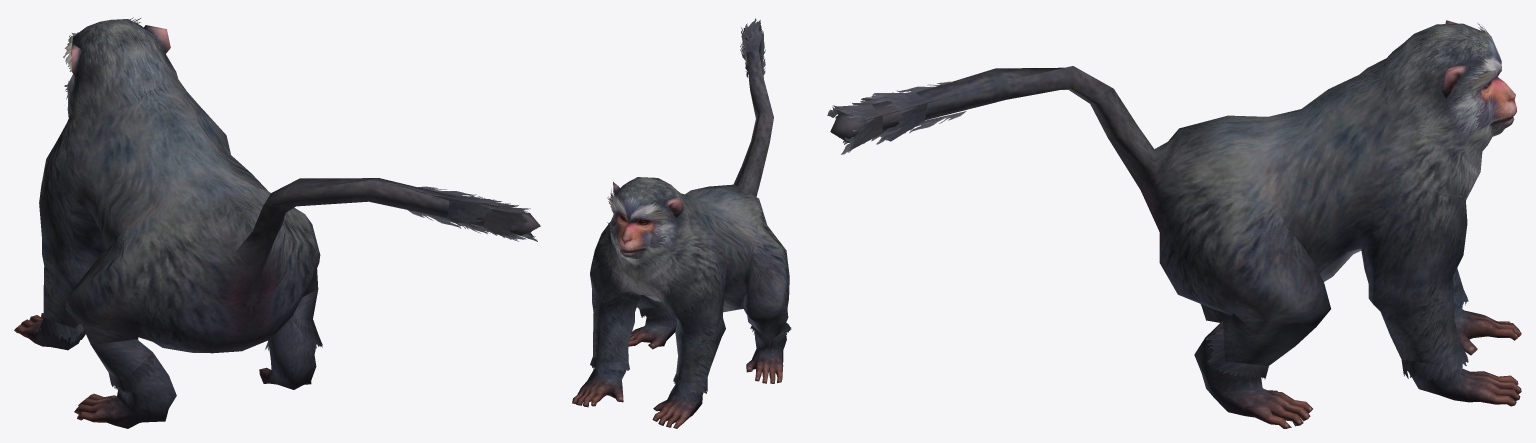
Rendered from Maymun.fbx.
3 views of the same model, side by side, from view 1: azimuth 30°, elevation 25°; view 2: azimuth 150°, elevation 25°; view 3: azimuth 270°, elevation 25° (orthographic). The views are drawn at different scales.
Visible parts, largest first — view 1: monkey; view 2: monkey; view 3: monkey.
Boxes of the visible parts, x1,y1,x2,y2 form: monkey: [14, 17, 540, 428]; monkey: [572, 18, 791, 428]; monkey: [827, 20, 1521, 428].
Size of the model in its own units: 677 by 752 by 1401.
Materials: 1 (1 with a texture image).
